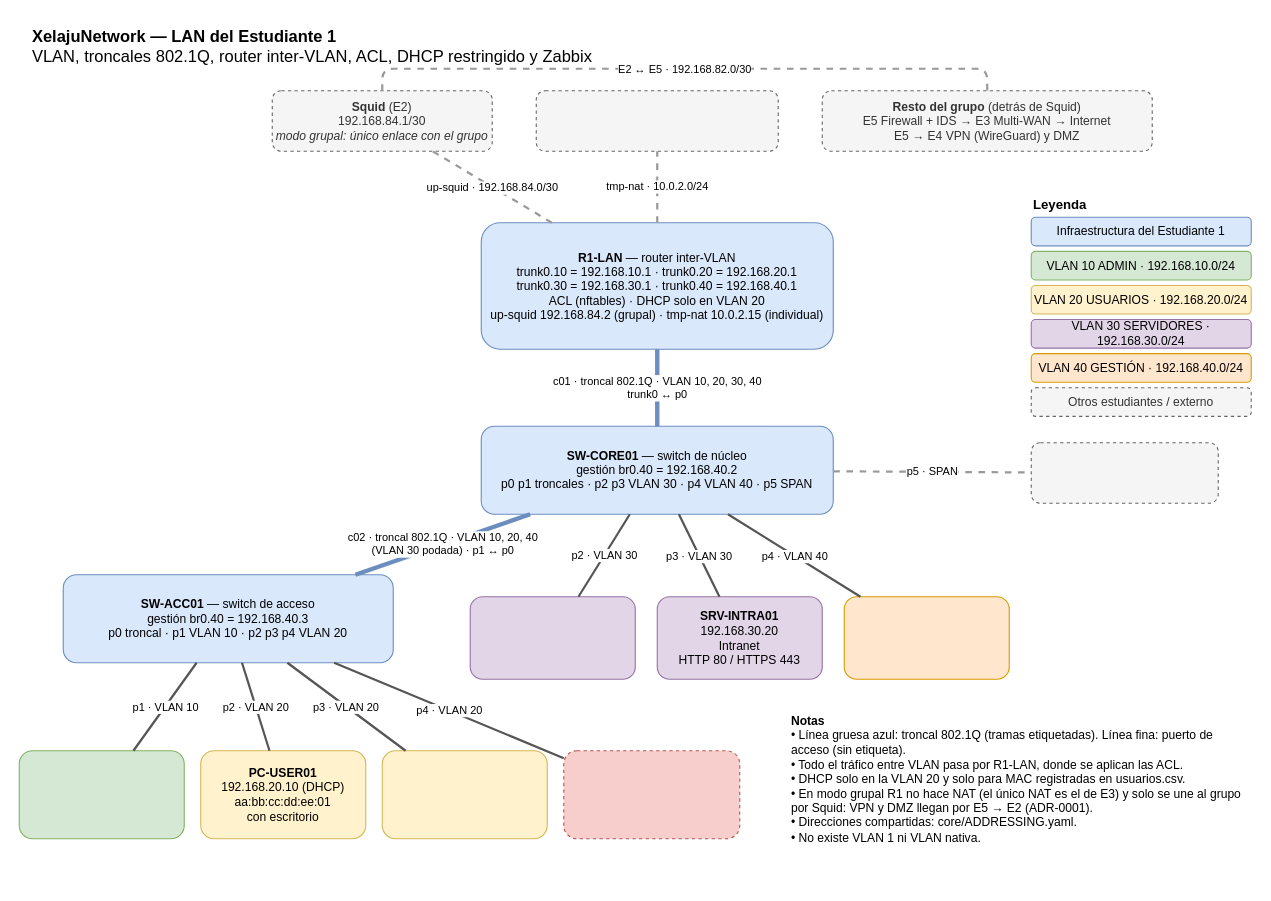
Image size: 1271x901. Some labels were removed from this diagram. Here are the shapes that lost their labels. From the top down, the centre of each, then its label:
At point (656, 120): "NAT de QEMU 10.0.2.2 salida temporal a Internet modo individual".
At point (1124, 472): "Captura (Wireshark) recibe copia de p0".
At point (552, 637): "ZBX-SRV01 192.168.30.10 Zabbix 7.0 LTS web solo desde ADMIN".
At point (926, 637): "PC-MGMT01 192.168.40.10 estación de gestión".
At point (101, 794): "PC-ADMIN01 192.168.10.50 IP manual con escritorio".
At point (464, 794): "PC-USER02 192.168.20.11 (DHCP) aa:bb:cc:dd:ee:02".
At point (651, 794): "PC-INTRUSO sin dirección aa:bb:cc:dd:ee:99 MAC no registrada".
